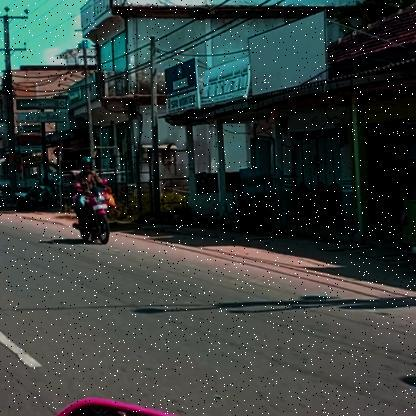motorcycle: (73, 185, 112, 246)
